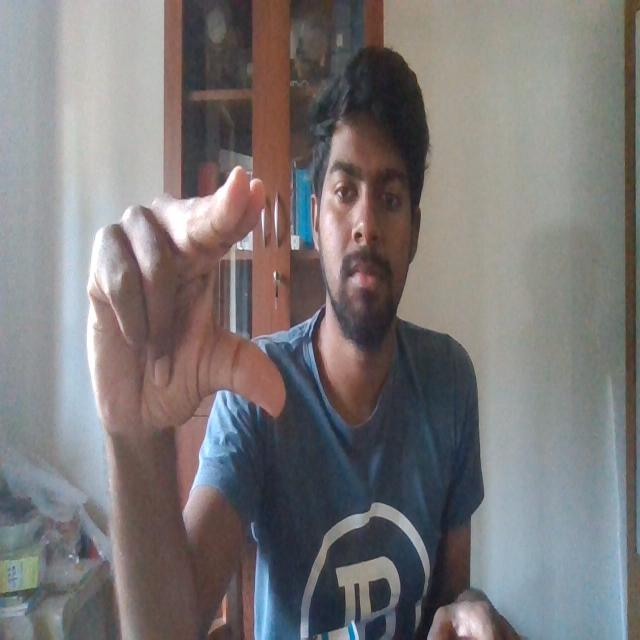No: (78, 151, 295, 456)
